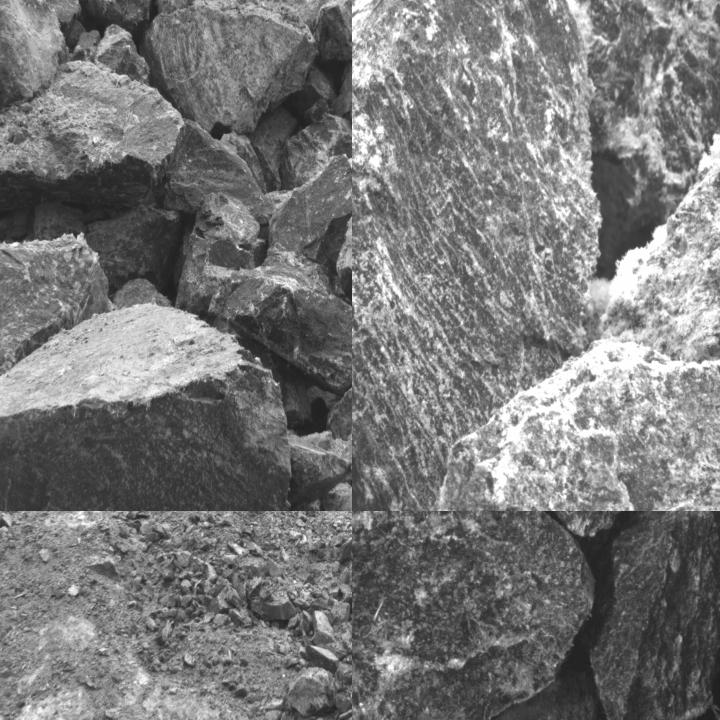stone: (352, 0, 611, 510), (0, 314, 288, 510), (352, 511, 594, 719), (491, 0, 719, 202), (433, 355, 719, 510), (606, 124, 719, 371), (0, 66, 175, 225), (586, 511, 719, 719), (140, 0, 317, 135), (0, 223, 107, 422), (207, 264, 351, 391), (166, 122, 278, 219), (175, 192, 262, 313), (266, 157, 351, 263), (89, 206, 182, 292), (0, 0, 66, 106), (468, 672, 595, 719), (278, 121, 351, 192), (291, 437, 351, 509), (97, 25, 149, 86), (86, 0, 155, 36), (319, 0, 351, 62), (153, 0, 201, 15)
